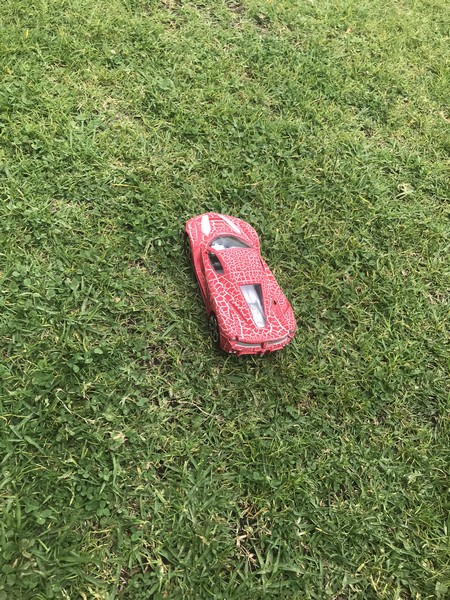RC: (181, 211, 300, 359)
